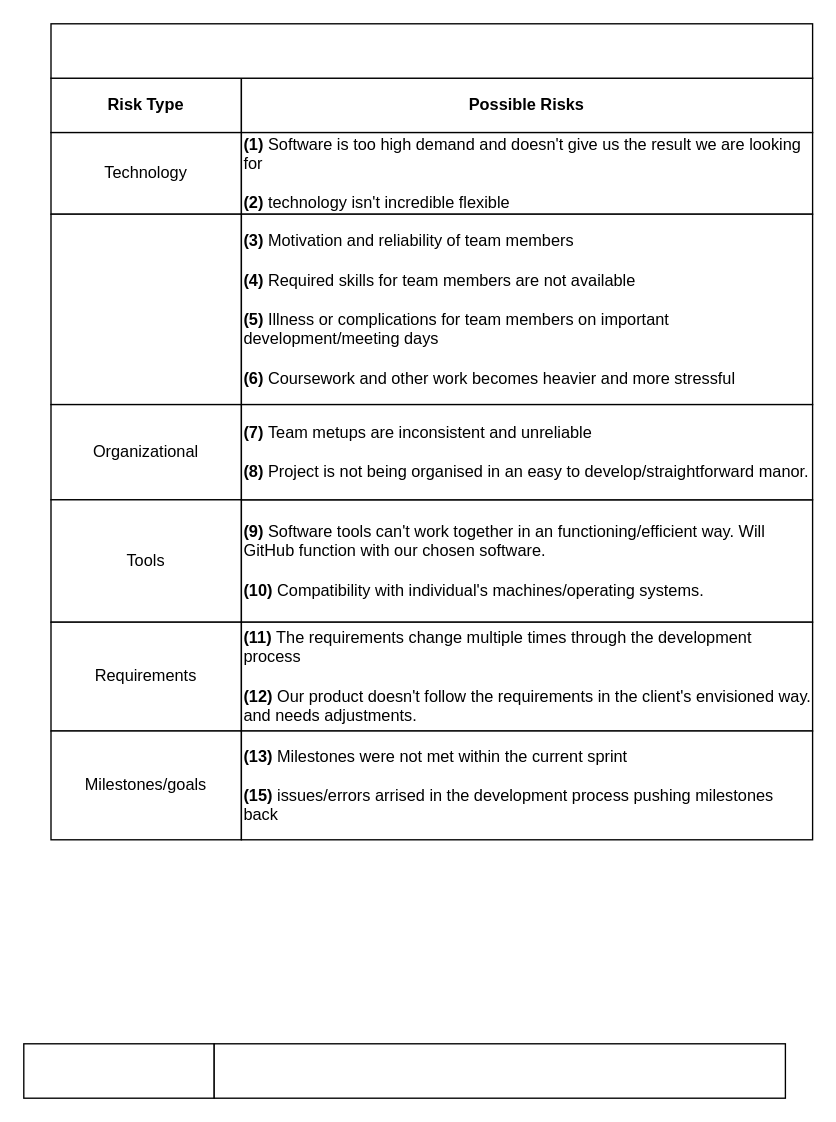
Some shapes in this 836 by 1122 pixel diagram are drawn without their labels. The shapes that lost their labels are listed below. From the top down, each one's box as (x1, y1, x2, y2) in pixels, then its label:
(50, 22, 813, 78): Types of possible risks:
(50, 213, 241, 405): People
